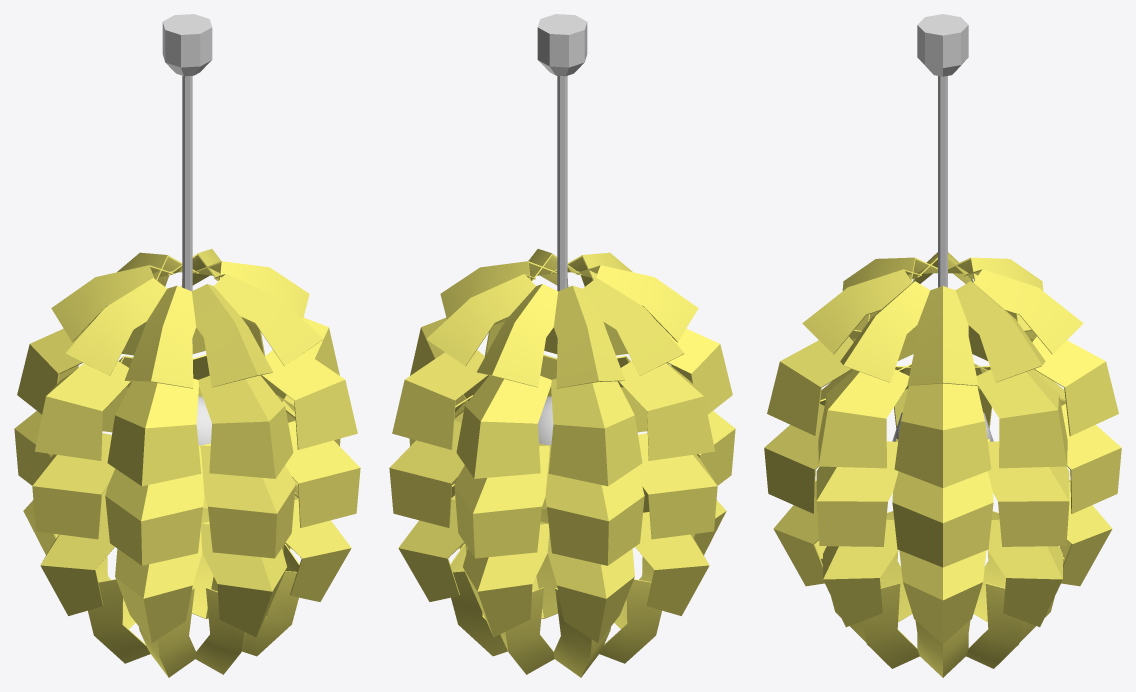
The model's file is lamp.fbx.
3 renders of one model, left to right at view 1: azimuth 30°, elevation 25°; view 2: azimuth 150°, elevation 25°; view 3: azimuth 270°, elevation 25°, orthographic.
Parts seen in each view (by area): view 1: lamp; view 2: lamp; view 3: lamp.
Boxes of the visible parts, x1,y1,x2,y2 form: lamp: (14, 14, 360, 677); lamp: (389, 14, 735, 677); lamp: (764, 14, 1121, 677).
Size of the model in its own units: 69.73 by 134 by 69.73.
